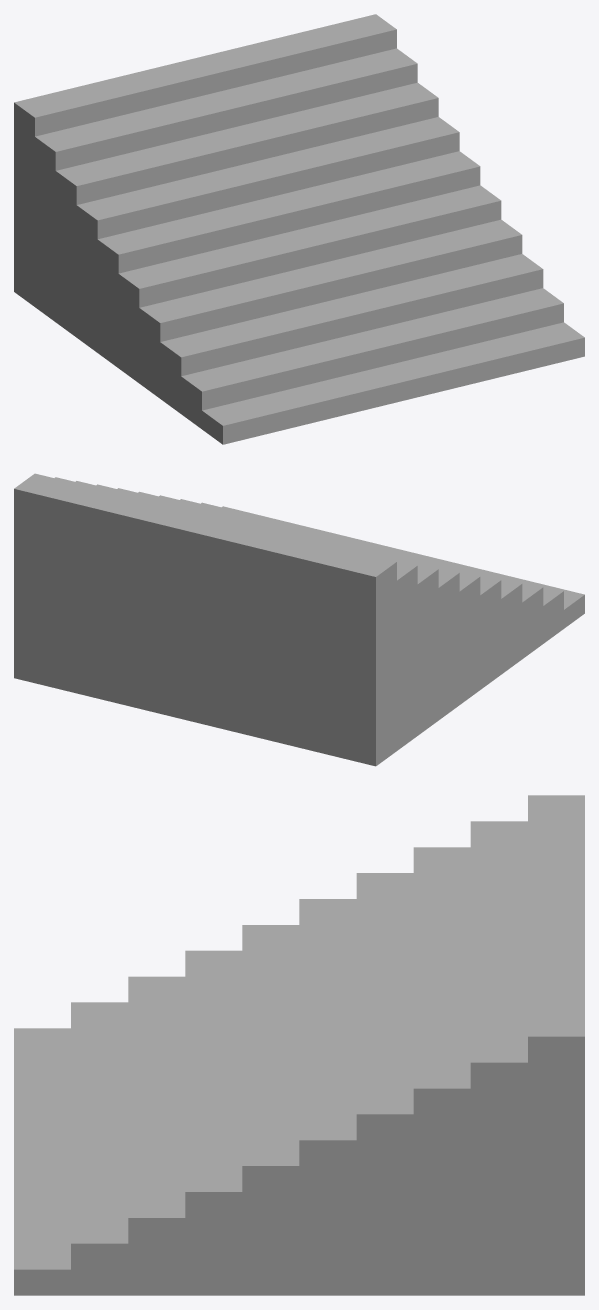
File: path_gray_ramp_2.obj
3 views of the same model, one above another, from view 1: azimuth 30°, elevation 25°; view 2: azimuth 150°, elevation 25°; view 3: azimuth 270°, elevation 25° (orthographic). The views are drawn at different scales.
Size of the model in its own units: 2 by 1 by 2.
1 material, 1 textured.
